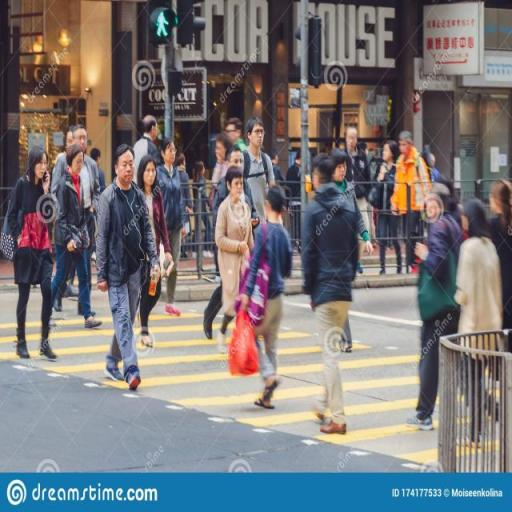person: (99, 145, 160, 392), (304, 153, 357, 435), (413, 185, 473, 434), (458, 202, 512, 446), (204, 148, 265, 341), (10, 148, 61, 362), (55, 145, 104, 331), (244, 189, 285, 411), (59, 122, 102, 316), (219, 177, 264, 355), (334, 157, 374, 348), (138, 157, 175, 351), (155, 144, 182, 316), (395, 131, 427, 272), (240, 124, 285, 223), (341, 127, 371, 274), (374, 142, 405, 273), (193, 163, 215, 260), (177, 156, 191, 260)
